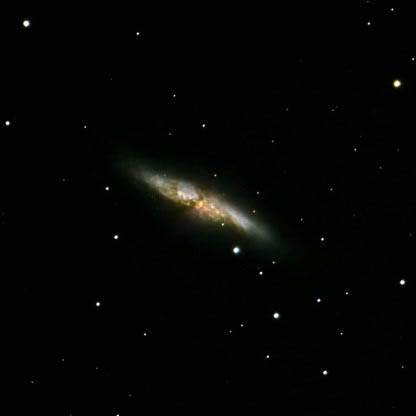Messier 82: (108, 142, 303, 273)
